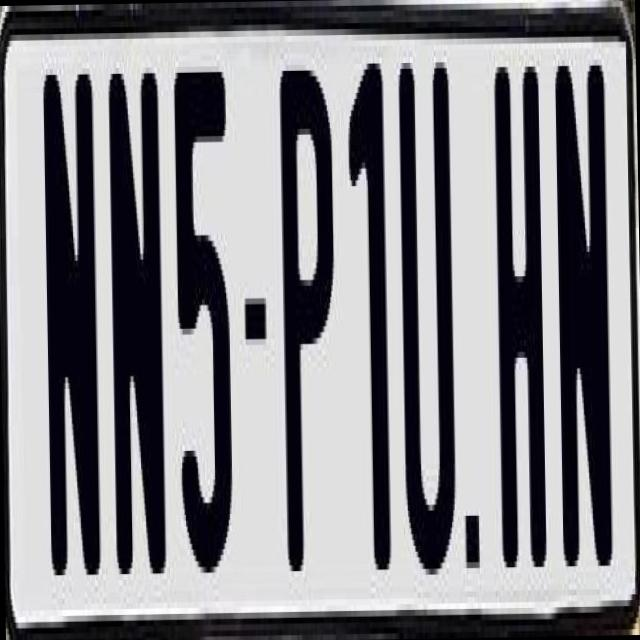1: (346, 45, 396, 552)
5: (174, 65, 234, 572)
H: (490, 48, 548, 579)
N: (38, 57, 101, 570), (108, 60, 170, 562), (552, 59, 610, 578)
P: (277, 57, 342, 588)
U: (398, 44, 460, 592)
